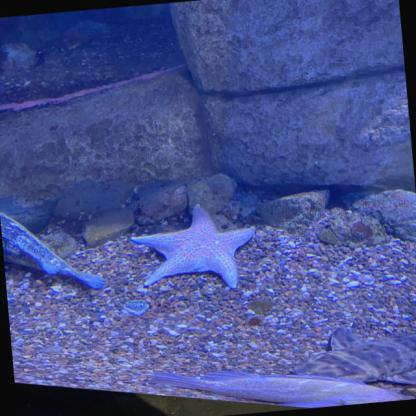fish: (152, 340, 415, 415), (0, 200, 113, 299)
starfish: (134, 205, 262, 299)
